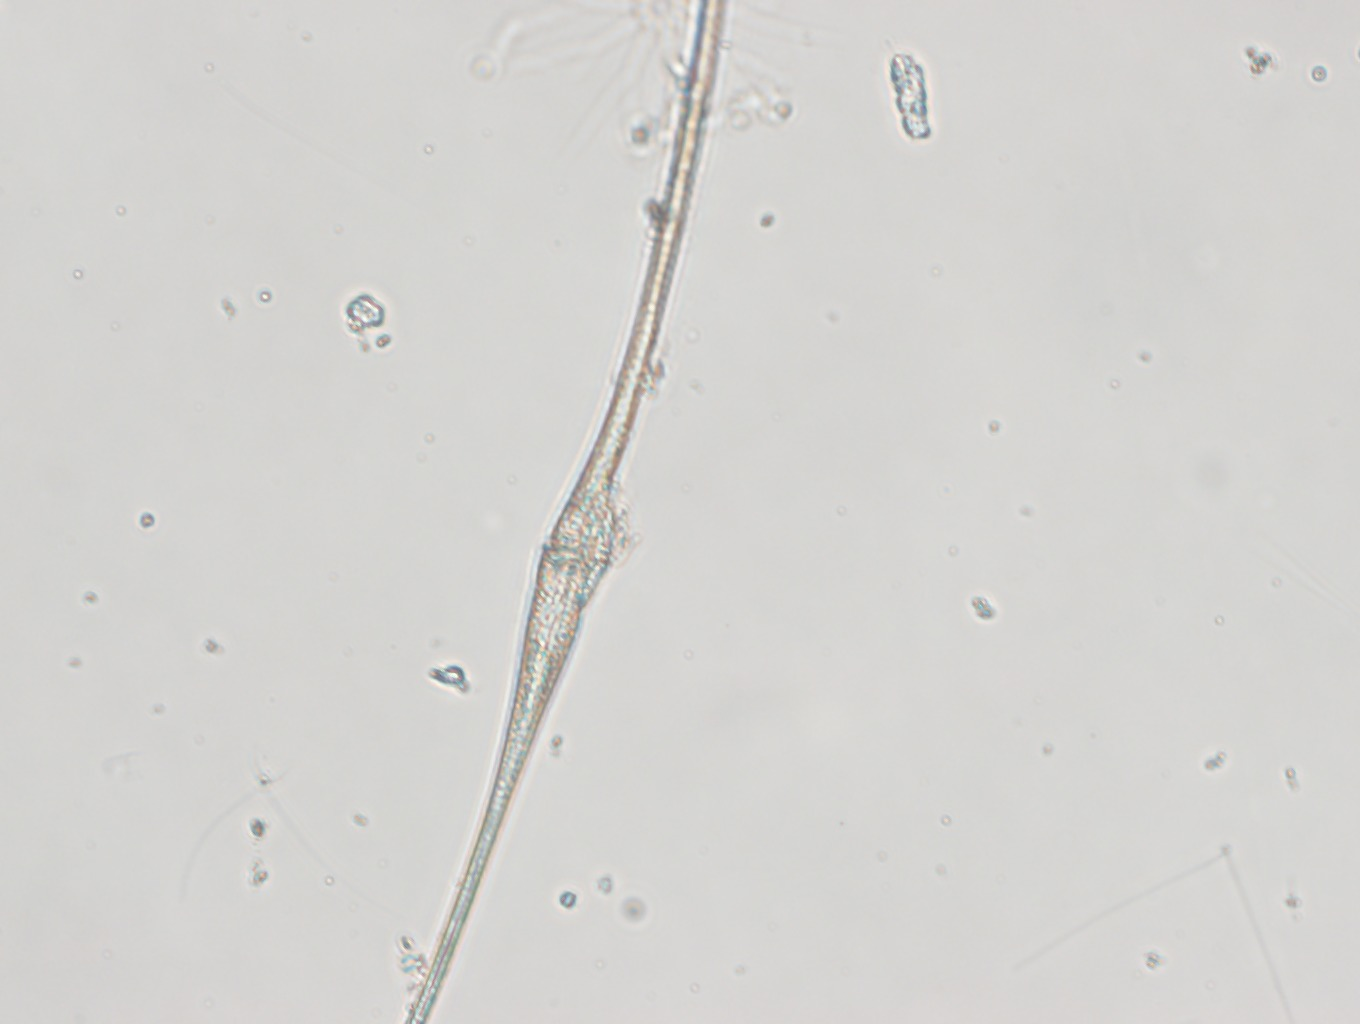ceratium fusus: (411, 1, 727, 1023)
